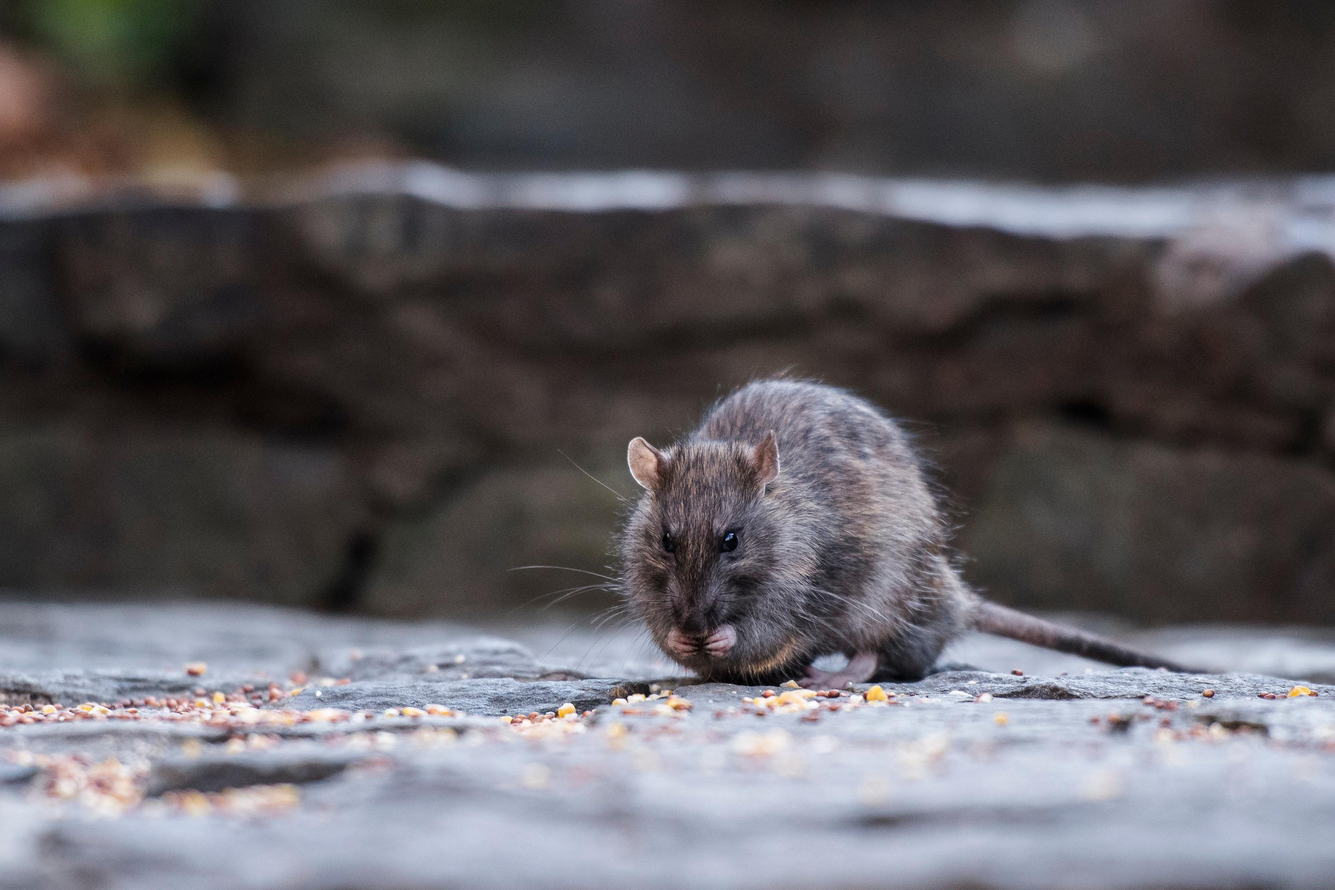rat: (623, 378, 1198, 690)
